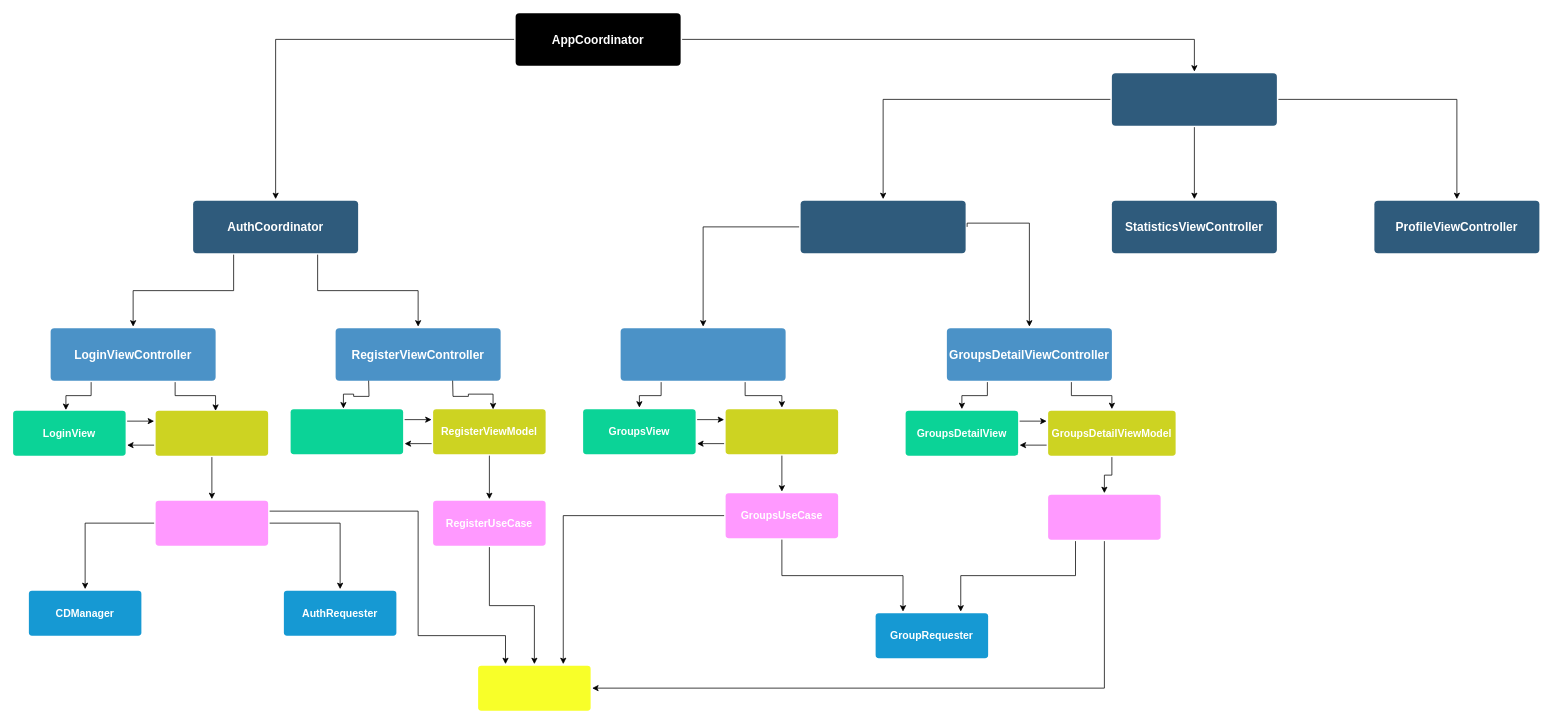
Image size: 1552x723. Some labels were removed from this diagram. Each missing label, with the centre of its shape:
"GroupsCoordinator" goes at point (882, 226).
"GroupsDetailUseCase" goes at point (1104, 516).
"GroupsViewController" goes at point (702, 354).
"GroupsViewModel" goes at point (781, 431).
"LoginUseCase" goes at point (211, 522).
"LoginViewModel" goes at point (211, 432).
"RegisterView" goes at point (346, 431).
"TabBarCoordinator" goes at point (1194, 99).
"VerifyNet/CoreData" goes at point (534, 687).
